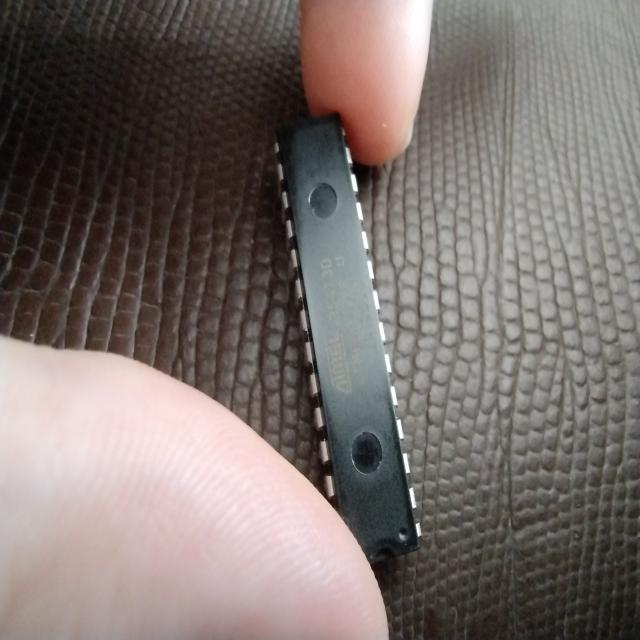atmega: (271, 108, 424, 568)
